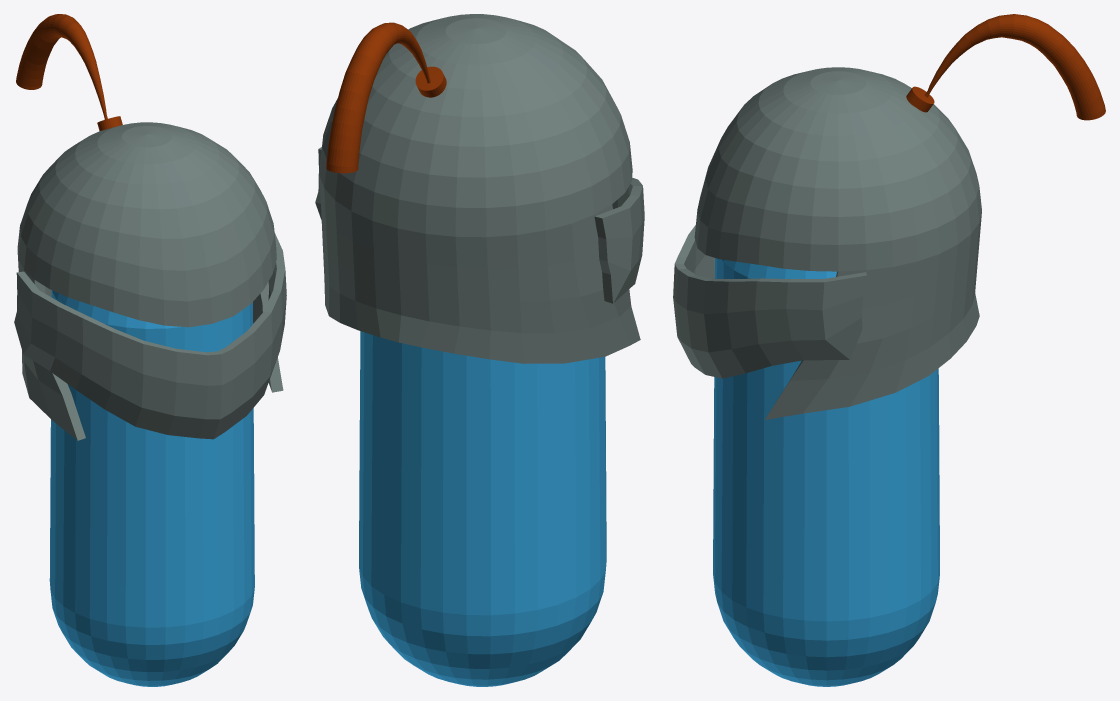
The model's file is player model mk1.glb.
3 views of the same model, side by side, from view 1: azimuth 30°, elevation 25°; view 2: azimuth 150°, elevation 25°; view 3: azimuth 270°, elevation 25° (orthographic). The views are drawn at different scales.
Parts seen in each view (by area): view 1: Body, Helmet, Visor, Cylinder; view 2: Helmet, Body, Cylinder, Visor; view 3: Helmet, Body, Visor, Cylinder.
Part boxes in pixels (left/top/right/bottom): Body: left=49, top=290, right=254, bottom=686; Helmet: left=17, top=122, right=283, bottom=440; Visor: left=14, top=233, right=286, bottom=439; Cylinder: left=16, top=14, right=122, bottom=130; Helmet: left=319, top=14, right=640, bottom=363; Body: left=359, top=331, right=606, bottom=686; Cylinder: left=326, top=22, right=446, bottom=173; Visor: left=315, top=147, right=644, bottom=303; Helmet: left=694, top=67, right=981, bottom=419; Body: left=713, top=258, right=939, bottom=686; Visor: left=673, top=225, right=866, bottom=378; Cylinder: left=906, top=14, right=1105, bottom=120.
Size of the model in its own units: 1.01 by 2.36 by 1.4.
